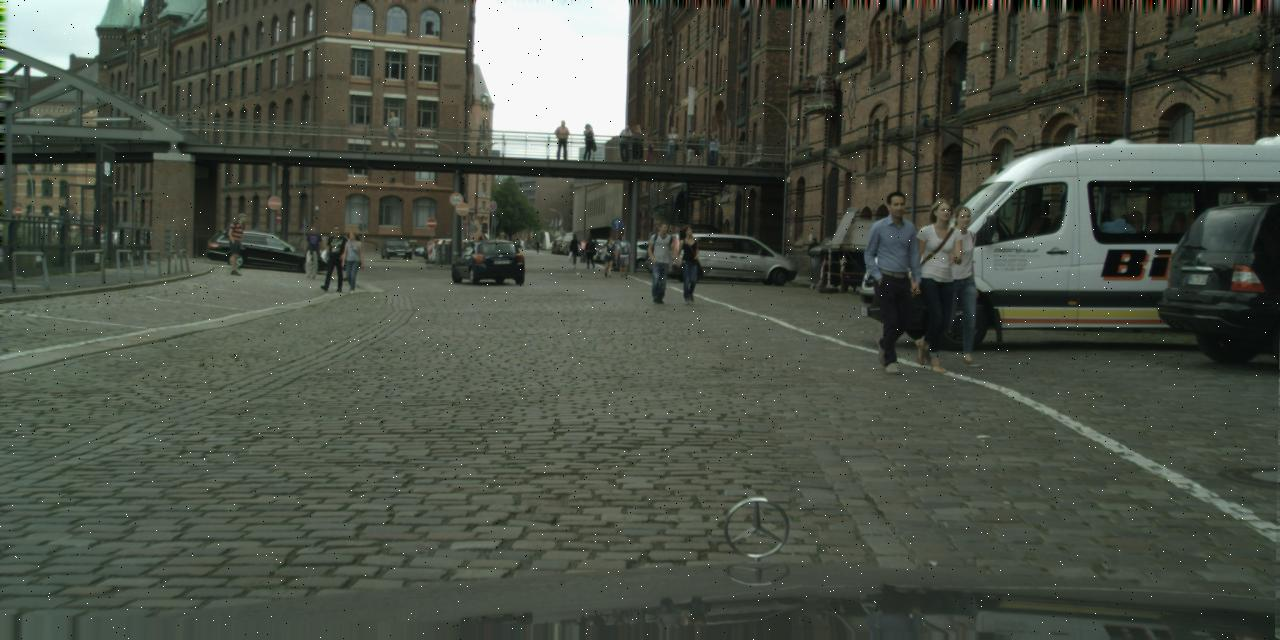ped: (854, 191, 926, 367), (900, 198, 969, 366), (922, 206, 986, 363), (644, 222, 678, 304), (672, 224, 705, 304), (320, 224, 348, 291), (339, 230, 364, 294), (226, 213, 250, 276), (300, 226, 322, 278), (384, 111, 401, 153), (806, 237, 822, 279), (614, 235, 630, 276), (553, 120, 569, 160), (629, 124, 645, 164), (601, 237, 617, 277), (580, 122, 594, 162), (618, 124, 632, 162), (664, 127, 678, 164), (694, 129, 708, 165), (684, 132, 698, 166), (568, 234, 581, 268), (476, 234, 489, 267), (706, 134, 718, 167), (584, 237, 596, 268), (321, 234, 333, 264), (496, 231, 506, 260), (578, 238, 588, 261), (343, 266, 347, 282), (331, 268, 336, 280), (535, 240, 539, 252), (344, 236, 348, 240)
